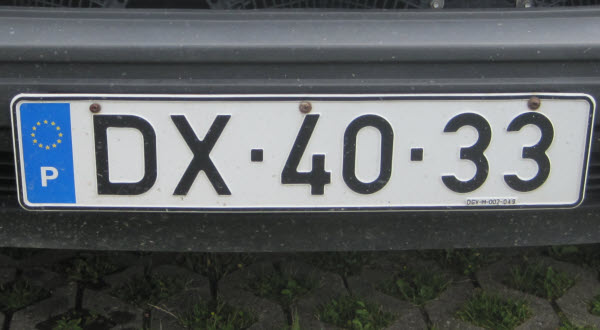license_plate: (11, 93, 596, 212)
